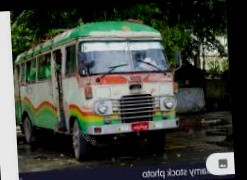bus: (13, 15, 180, 163)
